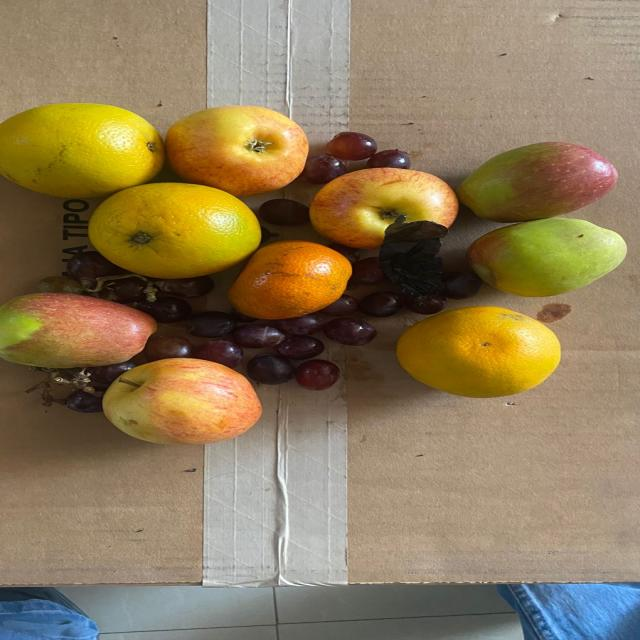bolsa_negra: (382, 218, 456, 306)
